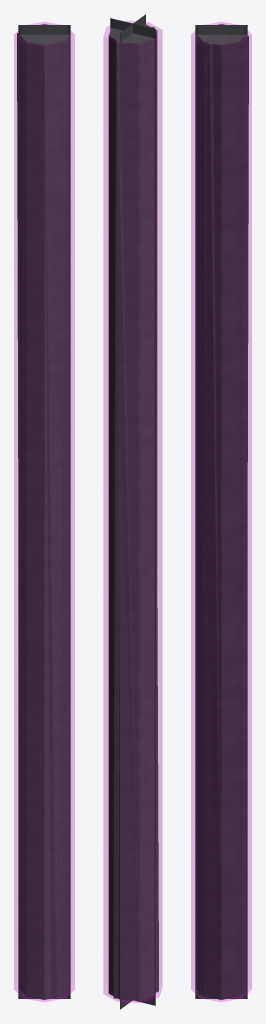
The model's file is chainlink_post.dae.
The picture shows the model from 3 angles, left to right: view 1: azimuth 90°, elevation 25°; view 2: azimuth 150°, elevation 25°; view 3: azimuth 270°, elevation 25°; orthographic projection.
Visible parts, largest first — view 1: Colmesh_stake-1, chainlink_post_a800, chainlink_post_a200, chainlink_post_a50; view 2: Colmesh_stake-1, chainlink_post_a800, chainlink_post_a200, chainlink_post_a50; view 3: Colmesh_stake-1, chainlink_post_a800, chainlink_post_a200, chainlink_post_a50.
Boxes of the visible parts, x1,y1,x2,y2 form: Colmesh_stake-1: (14,22,74,1001); chainlink_post_a800: (19,24,69,999); chainlink_post_a200: (17,33,67,998); chainlink_post_a50: (18,25,70,998); Colmesh_stake-1: (103,21,162,1002); chainlink_post_a800: (108,24,157,1000); chainlink_post_a200: (113,27,158,998); chainlink_post_a50: (110,14,155,1009); Colmesh_stake-1: (191,22,251,1001); chainlink_post_a800: (196,24,245,999); chainlink_post_a200: (198,24,248,995); chainlink_post_a50: (195,25,247,998).
Size of the model in its own units: 0.11 by 0.11 by 1.94.
2 materials, 1 textured.
